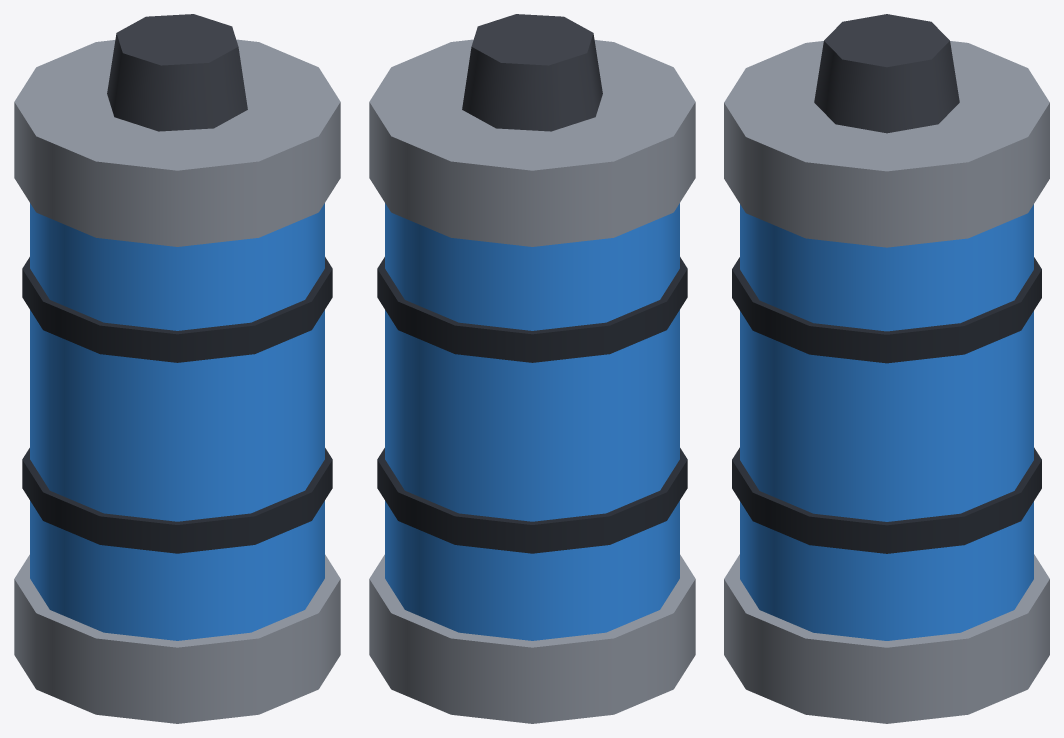
File: shieldcell.glb
3 renders of one model, left to right at view 1: azimuth 30°, elevation 25°; view 2: azimuth 150°, elevation 25°; view 3: azimuth 270°, elevation 25°, orthographic.
Parts seen in each view (by area): view 1: ShieldCell; view 2: ShieldCell; view 3: ShieldCell.
Part boxes in pixels (box(x1,y1,x2,y2)): ShieldCell: box(14, 14, 340, 723); ShieldCell: box(369, 14, 695, 723); ShieldCell: box(724, 14, 1049, 723).
Size of the model in its own units: 0.062 by 0.129 by 0.062.
